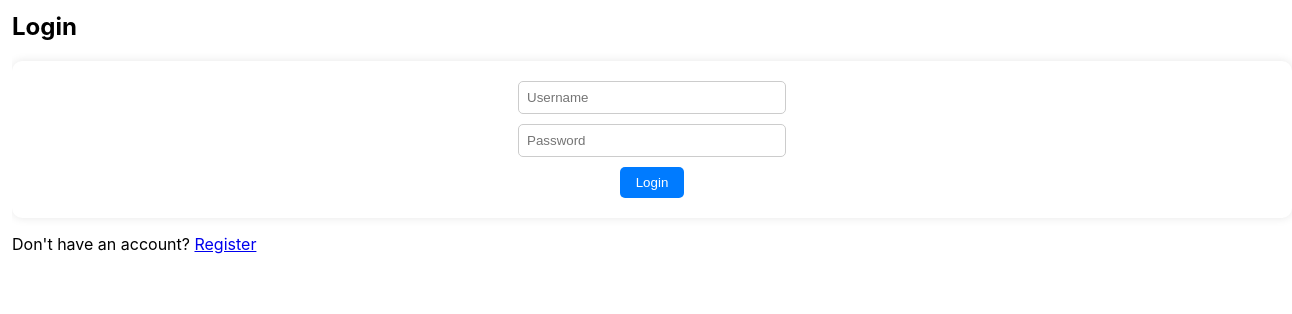
Scenario: Login Component › renders Register component when clicked on Register link
Click the link with test id "loginRegisterLink" at coordinates (226, 244), box left=194, top=234, right=256, bottom=254
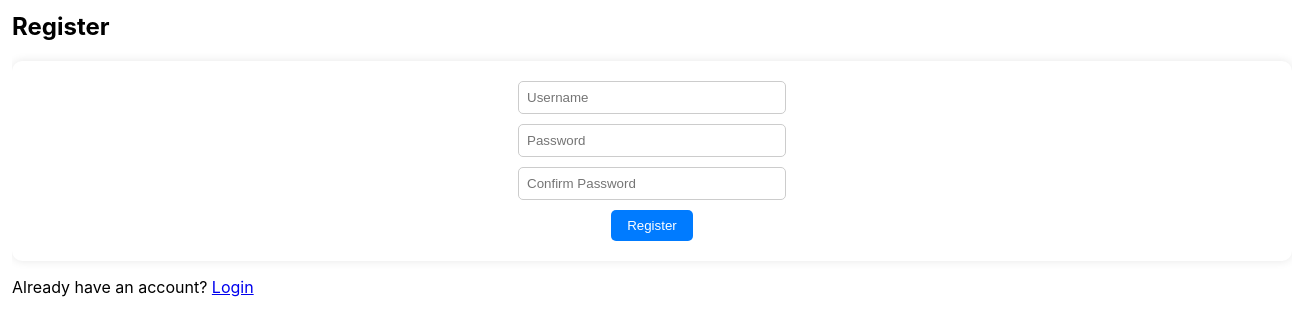
Check: the link with test id "loginRegisterLink" is shown, box left=212, top=277, right=254, bottom=297
Check: the text "Already have an account?" is shown, box left=12, top=277, right=207, bottom=297
